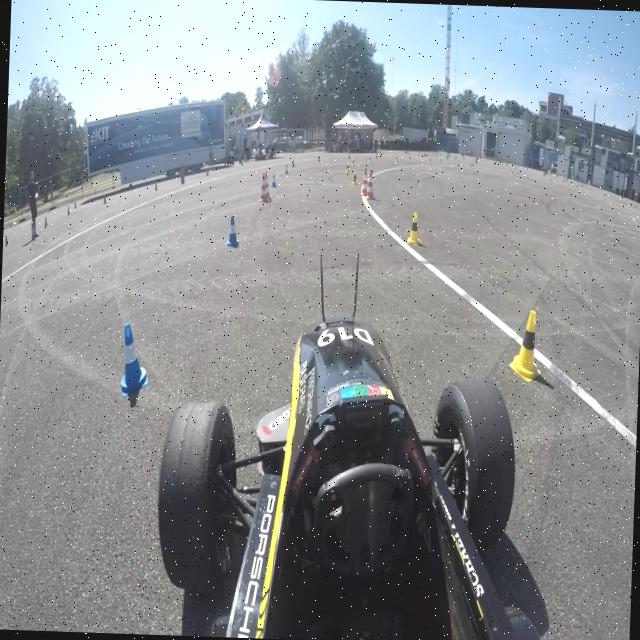blue_cone: (120, 321, 151, 397), (226, 215, 240, 248)
large_orange_cone: (258, 172, 268, 204), (360, 166, 370, 196), (366, 168, 375, 198), (262, 170, 271, 200)
yellow_cone: (509, 307, 543, 382), (406, 210, 422, 247)
